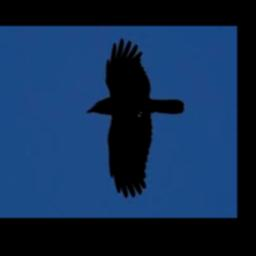Crow: (87, 38, 184, 198)
